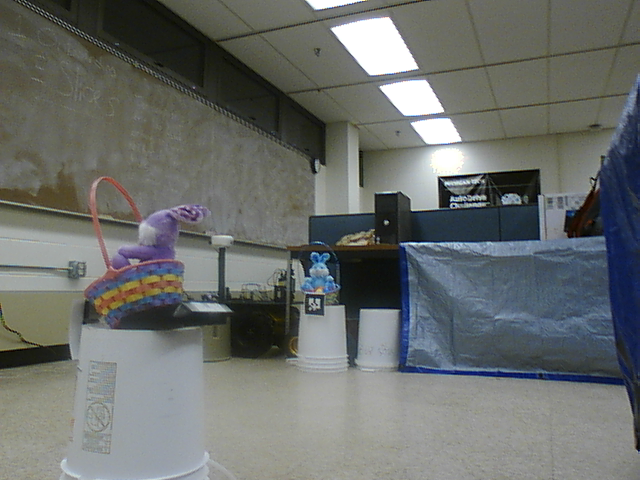bunny: (78, 169, 210, 335), (295, 239, 346, 310)
